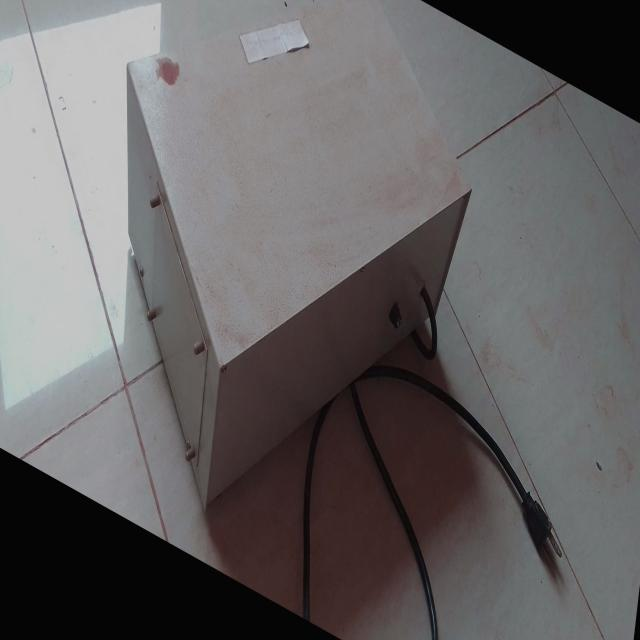Frank-Hertz Experiment Apparatus: (84, 0, 493, 607)
